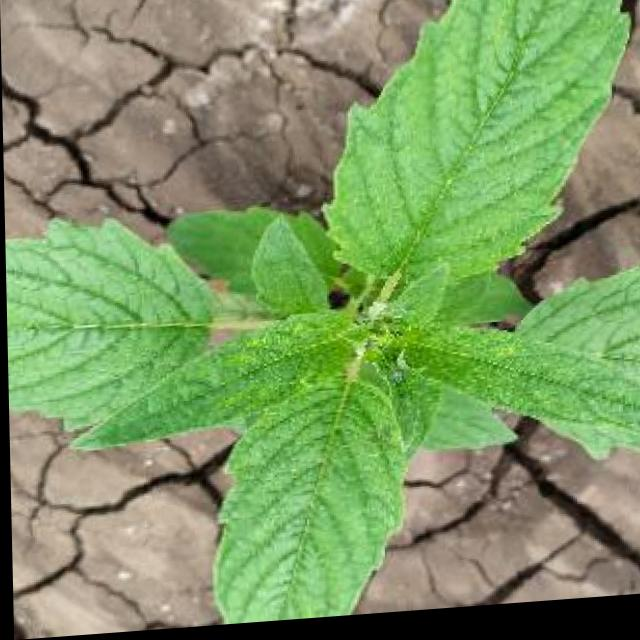crop: (10, 0, 640, 639)
